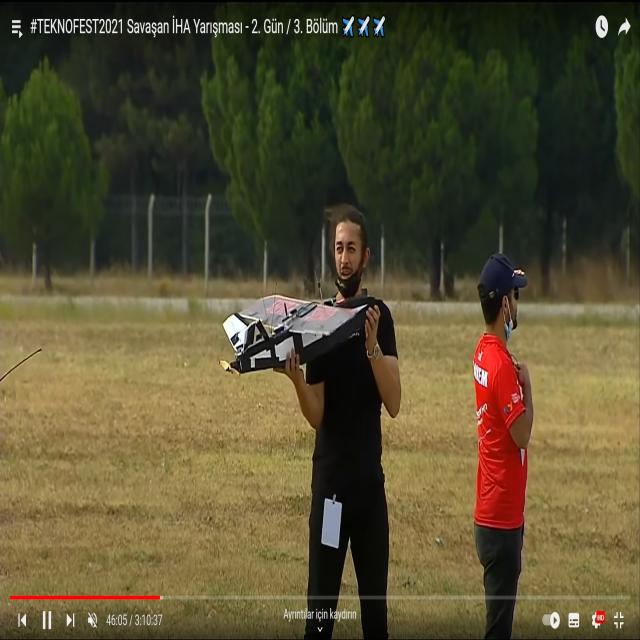iha: (219, 324, 378, 343)
